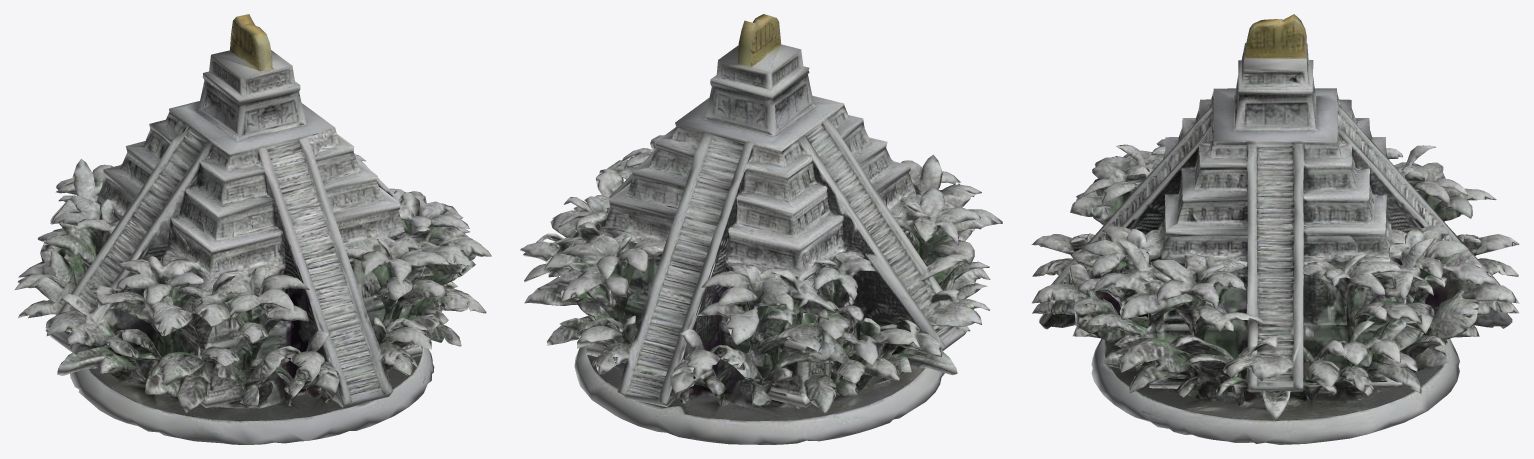
The model's file is palenque.glb.
3 views of the same model, side by side, from view 1: azimuth 30°, elevation 25°; view 2: azimuth 150°, elevation 25°; view 3: azimuth 270°, elevation 25° (orthographic).
Parts seen in each view (by area): view 1: Mesh_0; view 2: Mesh_0; view 3: Mesh_0.
Part boxes in pixels (box(x1,y1,x2,y2)): Mesh_0: box(14, 14, 491, 444); Mesh_0: box(520, 14, 1002, 444); Mesh_0: box(1031, 14, 1519, 444).
Size of the model in its own units: 1.89 by 1.48 by 1.86.
1 material, 1 textured.
